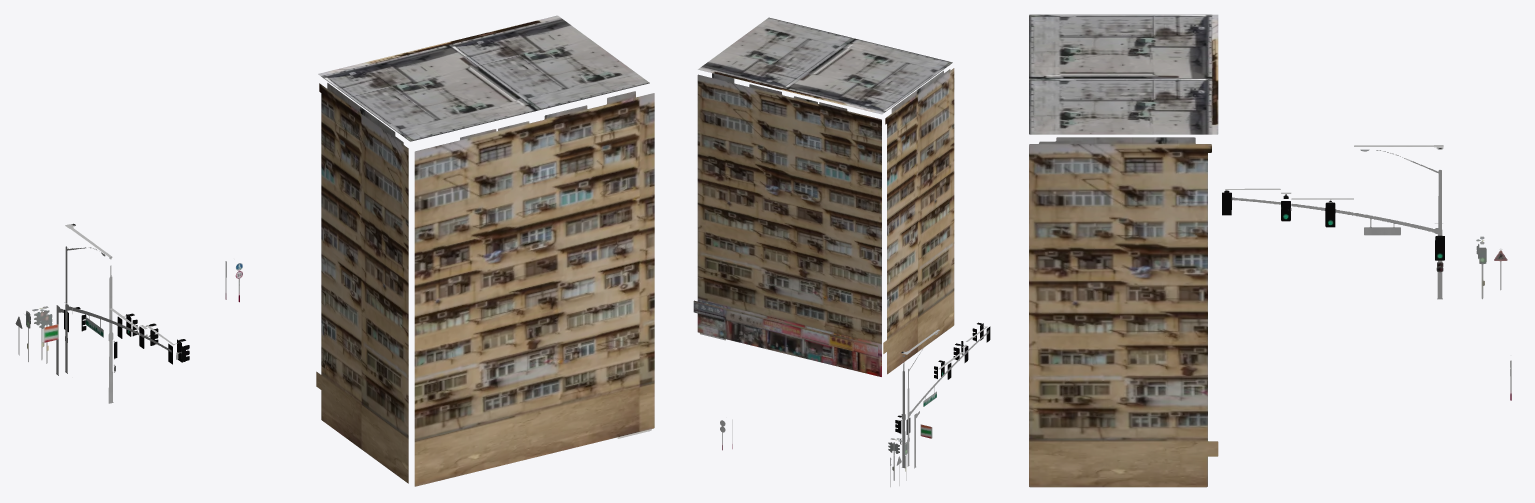
Rendered from block-hk-3-imp.glb.
The picture shows the model from 3 angles, left to right: view 1: azimuth 30°, elevation 25°; view 2: azimuth 150°, elevation 25°; view 3: azimuth 270°, elevation 25°; orthographic projection. The views are drawn at different scales.
Parts seen in each view (by area): view 1: block-hk-3-imp; view 2: block-hk-3-imp; view 3: block-hk-3-imp.
Boxes of the visible parts, left/top/right/bottom form: block-hk-3-imp: left=15, top=15, right=654, bottom=486; block-hk-3-imp: left=693, top=17, right=990, bottom=486; block-hk-3-imp: left=1029, top=14, right=1511, bottom=487.
Size of the model in its own units: 72 by 55.76 by 72.
Materials: 1 (1 with a texture image).
